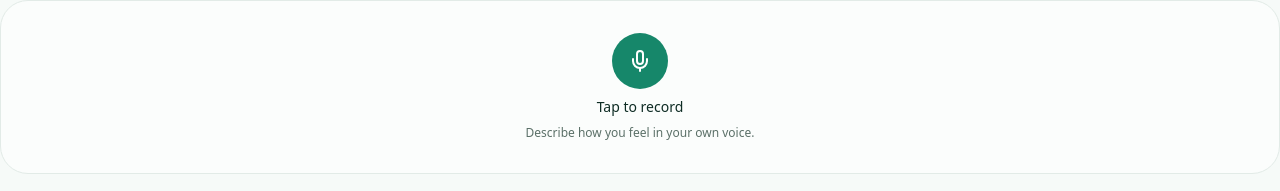
Test: VoiceRecorder › records, stops, emits a blob, and releases the mic
Click the button "Tap to record Describe how you feel in your own voice.".
click(640, 87)  # box left=526, top=33, right=754, bottom=141
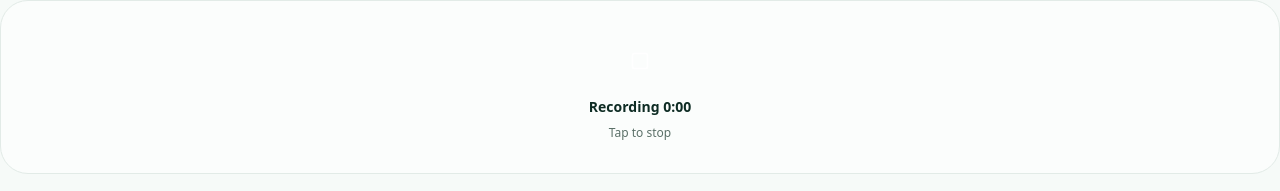
Expected: the text "Recording 0:00" is shown, left=589, top=97, right=691, bottom=117
Click the button "Recording 0:00 Tap to stop".
click(640, 87)  # box left=589, top=33, right=691, bottom=141
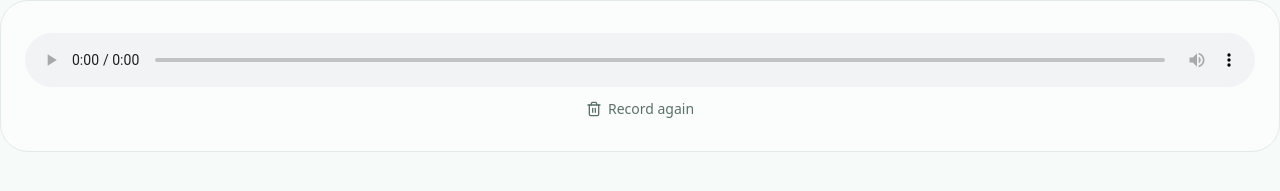
Expected: the element with test id "voice-playback" is shown, left=25, top=33, right=1255, bottom=87
